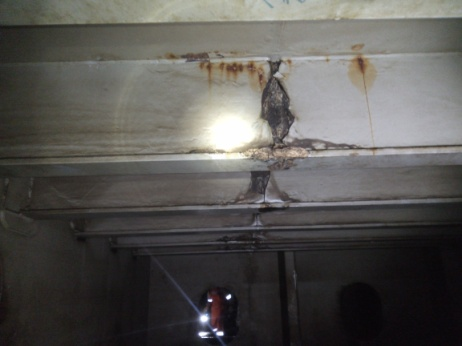corrosion: (251, 49, 308, 139), (164, 51, 260, 89), (196, 130, 361, 152), (238, 173, 303, 205), (345, 41, 378, 84)
